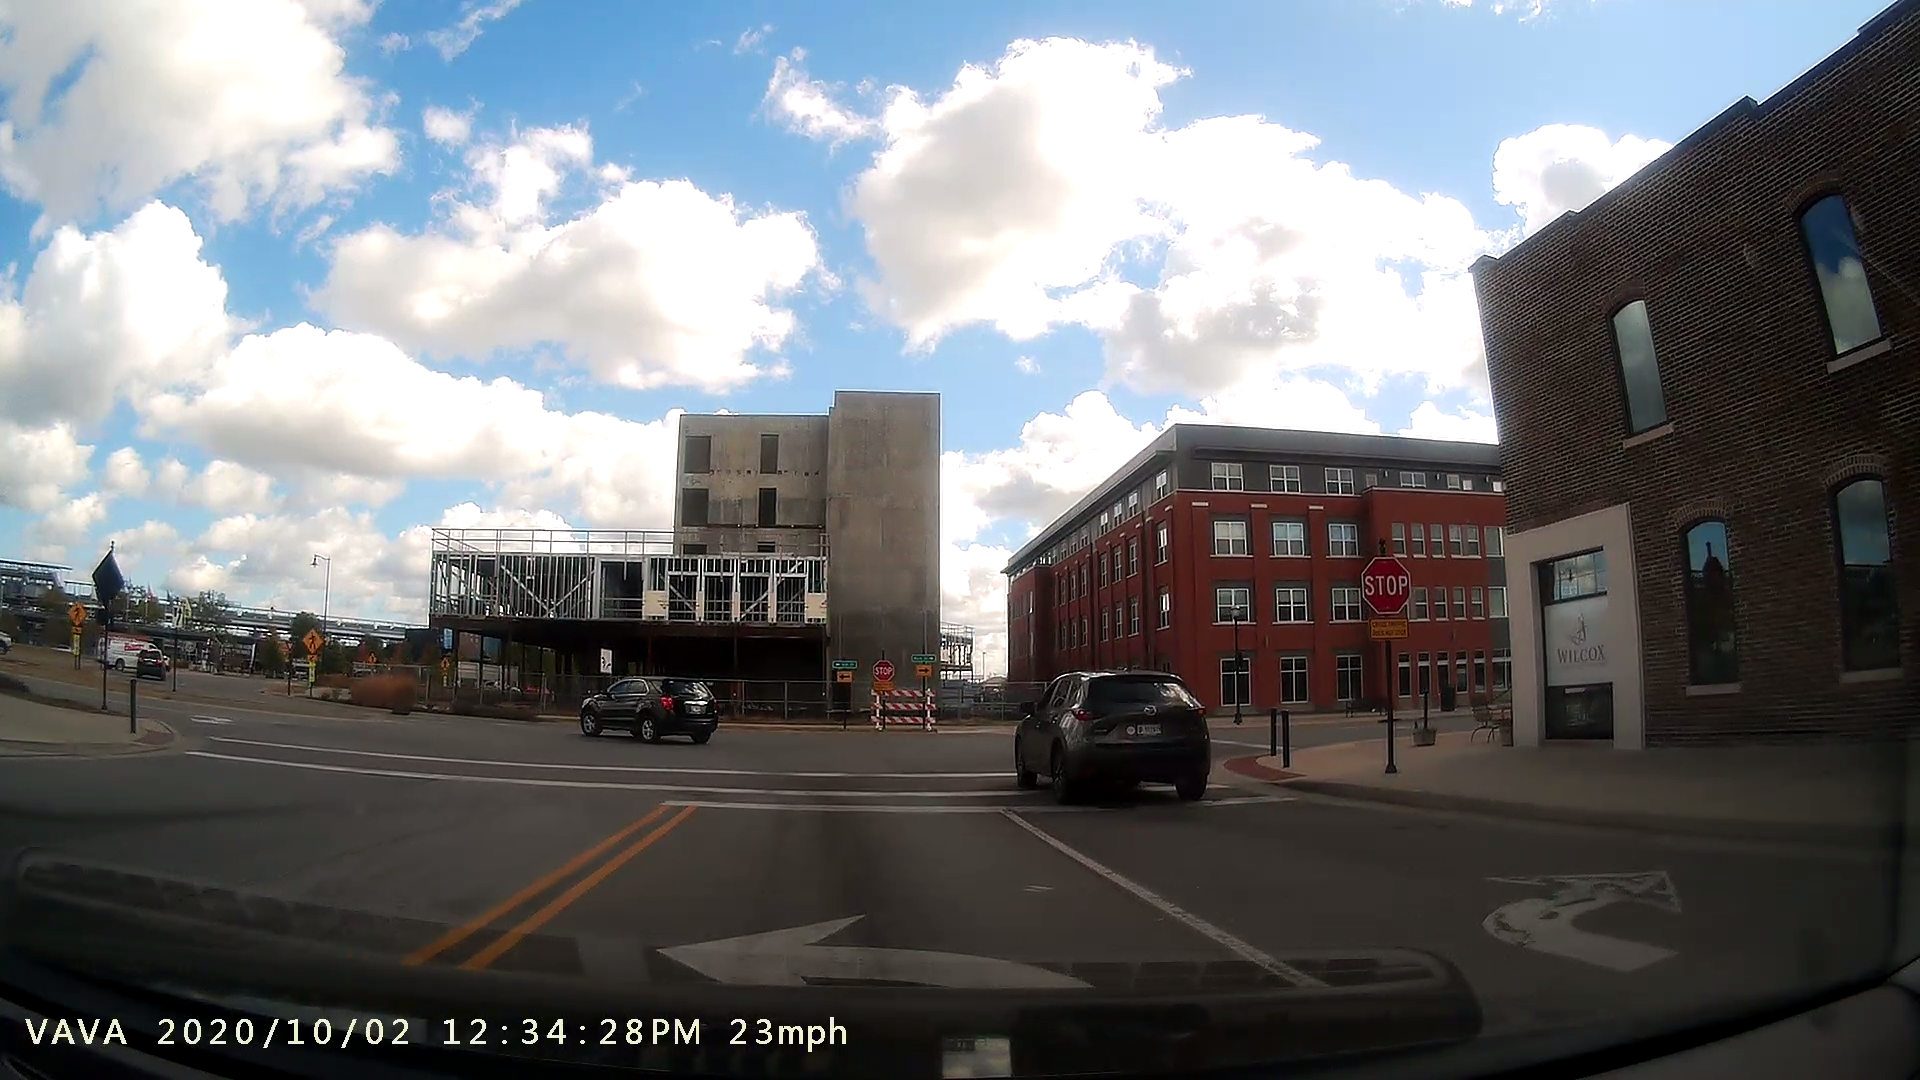right_turn: (1474, 845, 1705, 981)
